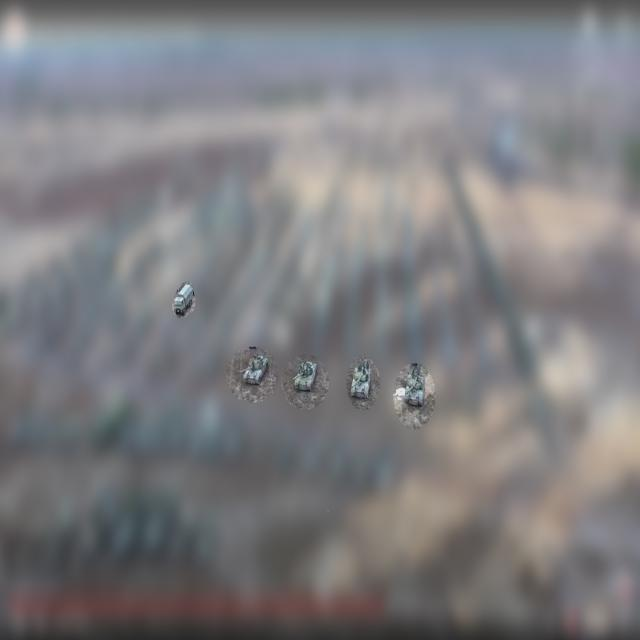tank: (350, 358, 372, 402), (238, 356, 268, 386), (404, 373, 425, 408), (293, 362, 317, 392)
